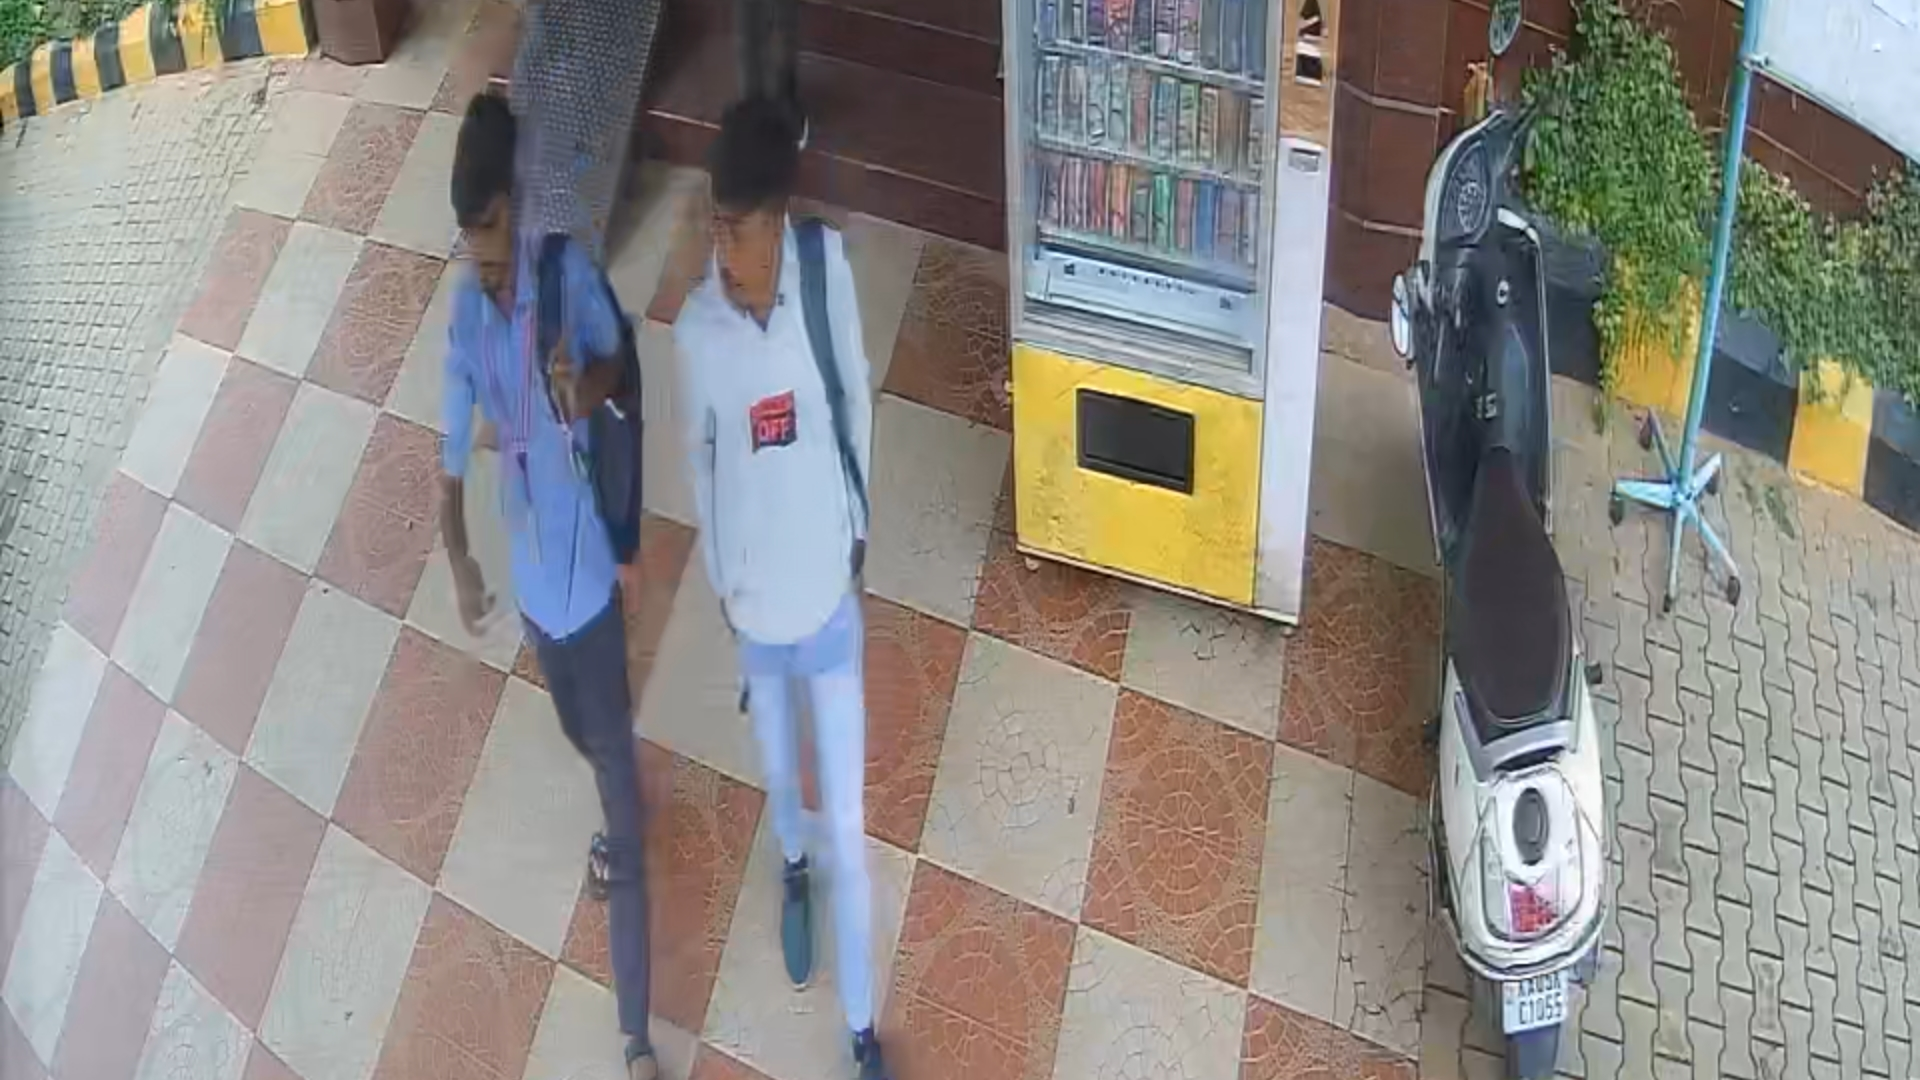intruder: (684, 66, 928, 1080)
not intruder: (433, 105, 674, 1080)
